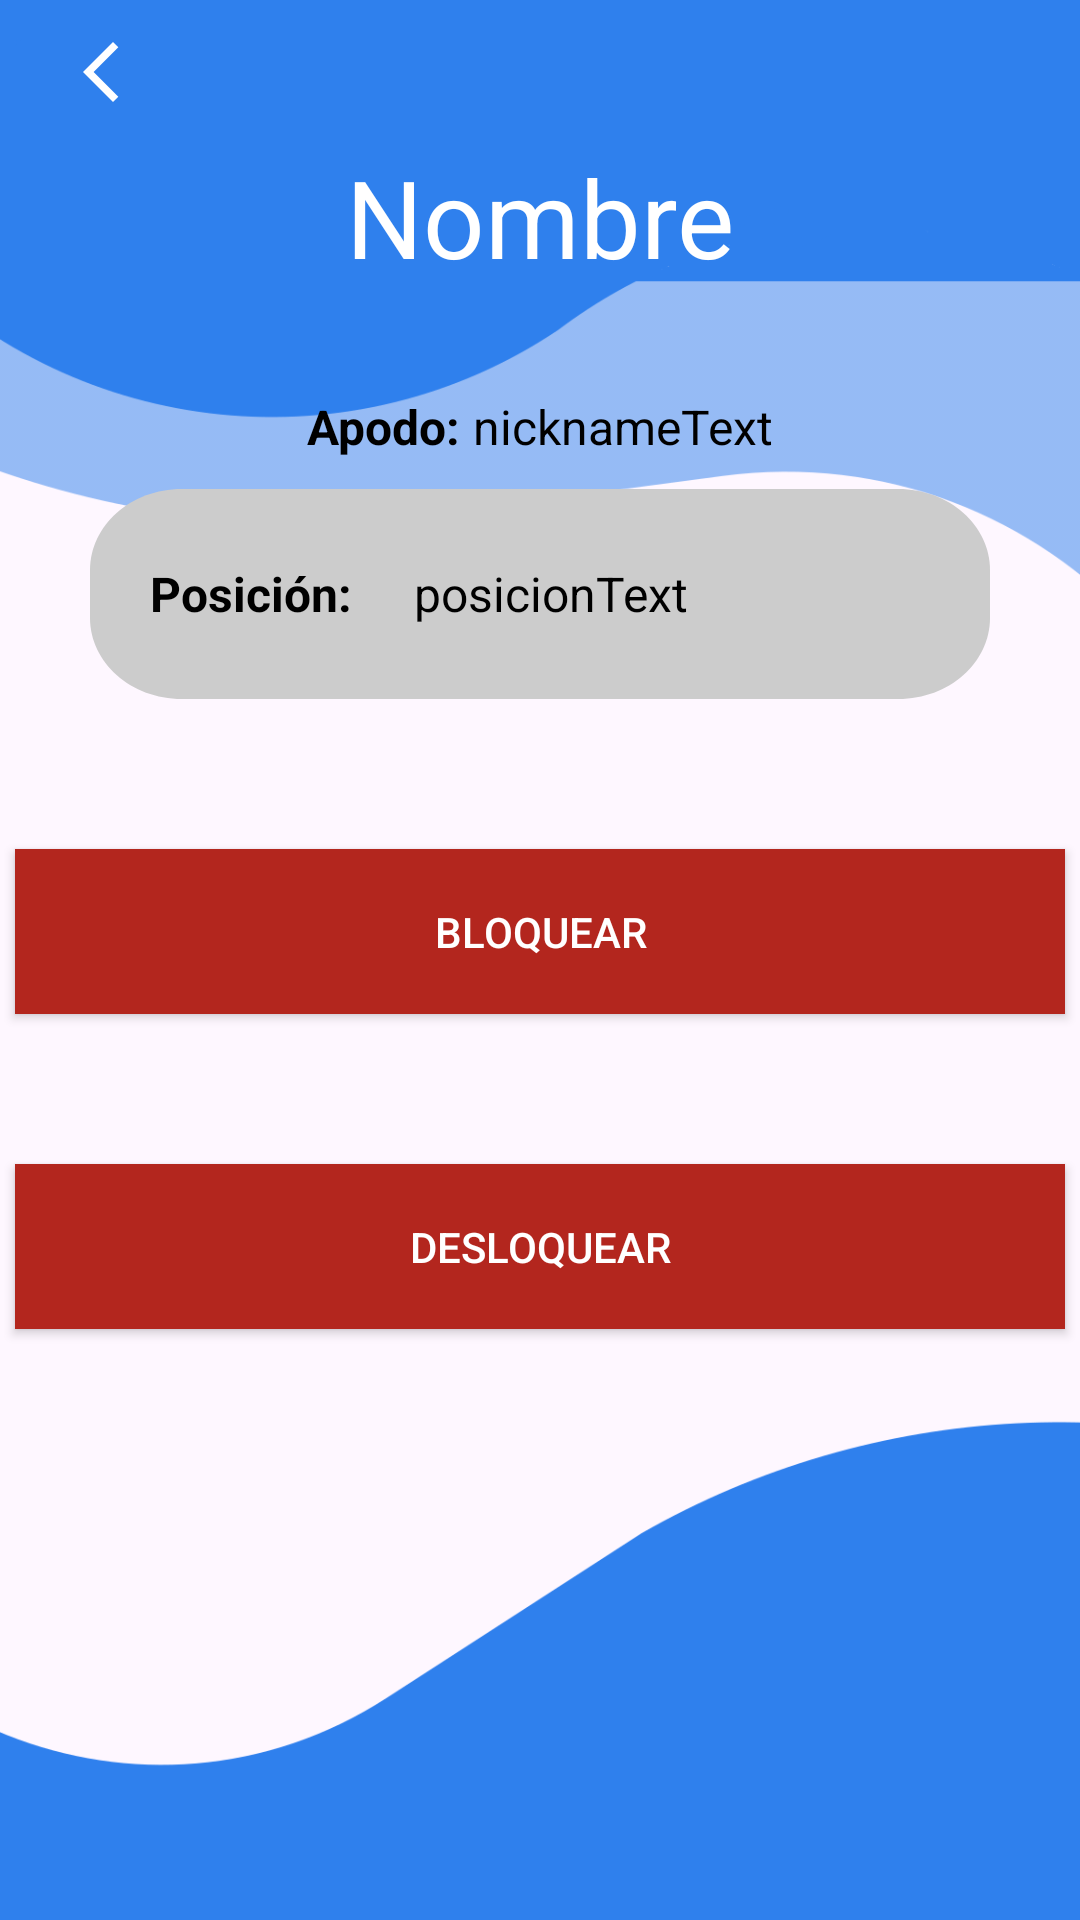

Point at icon controls on the screen. Image size 1080 x 1920, points as point (x, y).
Go back: point (100, 72)
